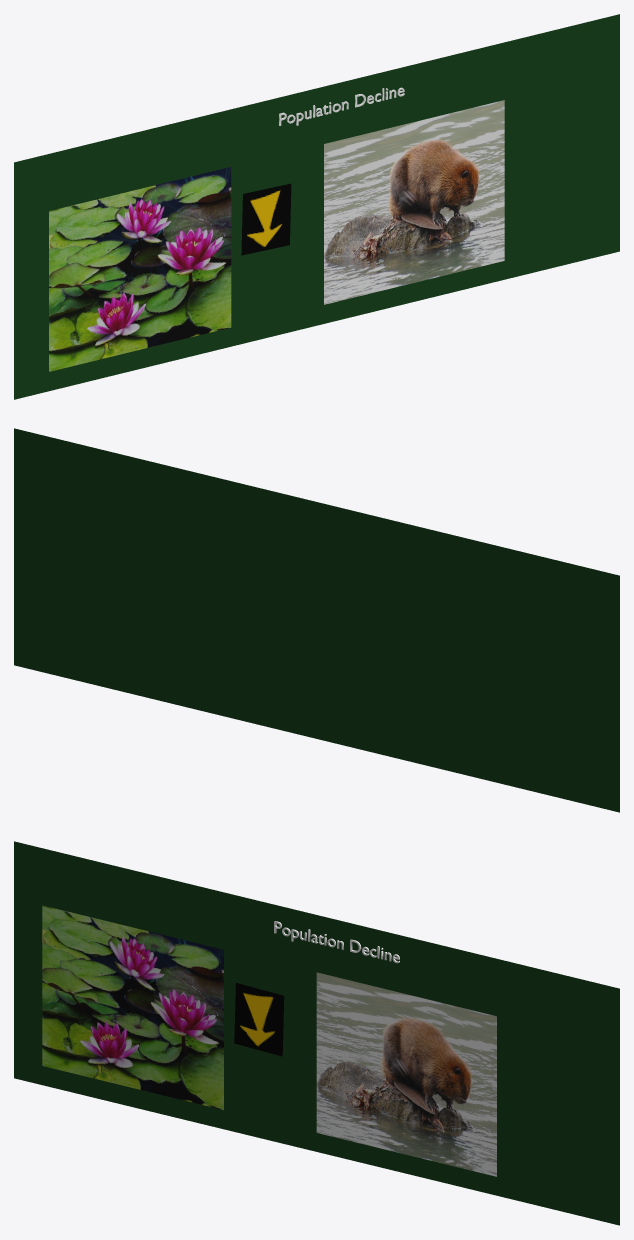
The model's file is cons4.gltf.
3 renders of one model, top to bottom at view 1: azimuth 30°, elevation 25°; view 2: azimuth 150°, elevation 25°; view 3: azimuth 330°, elevation 25°, orthographic.
Parts seen in each view (by area): view 1: Plane.013, Plane, Plane.002, Plane.001, Text.008; view 2: Plane.013; view 3: Plane.013, Plane, Plane.002, Plane.001, Text.008.
Boxes of the visible parts, x1,y1,x2,y2 form: Plane.013: (14,14,619,399); Plane: (49,167,231,371); Plane.002: (324,100,504,304); Plane.001: (241,183,291,255); Text.008: (279,87,404,125); Plane.013: (14,428,619,812); Plane.013: (14,841,619,1225); Plane: (42,905,223,1109); Plane.002: (316,972,496,1176); Plane.001: (234,983,284,1056); Text.008: (274,921,399,963).
Size of the model in its own units: 15.94 by 5.96 by 0.1767.
Materials: 5 (3 with a texture image).
